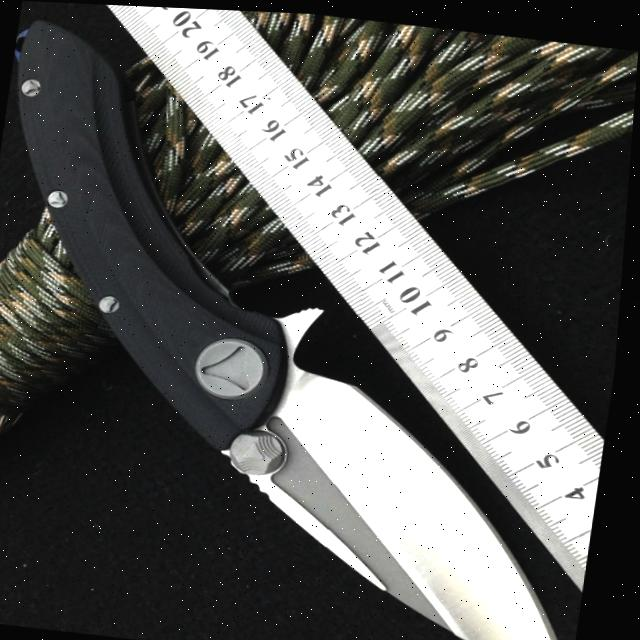knife: (0, 15, 639, 640)
